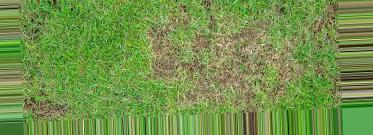patch: (225, 30, 316, 96), (157, 26, 218, 80), (181, 84, 222, 113)
